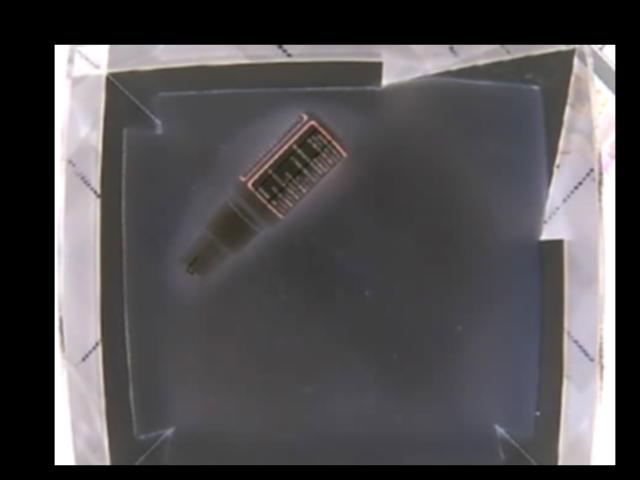Bottle: (174, 106, 348, 292)
